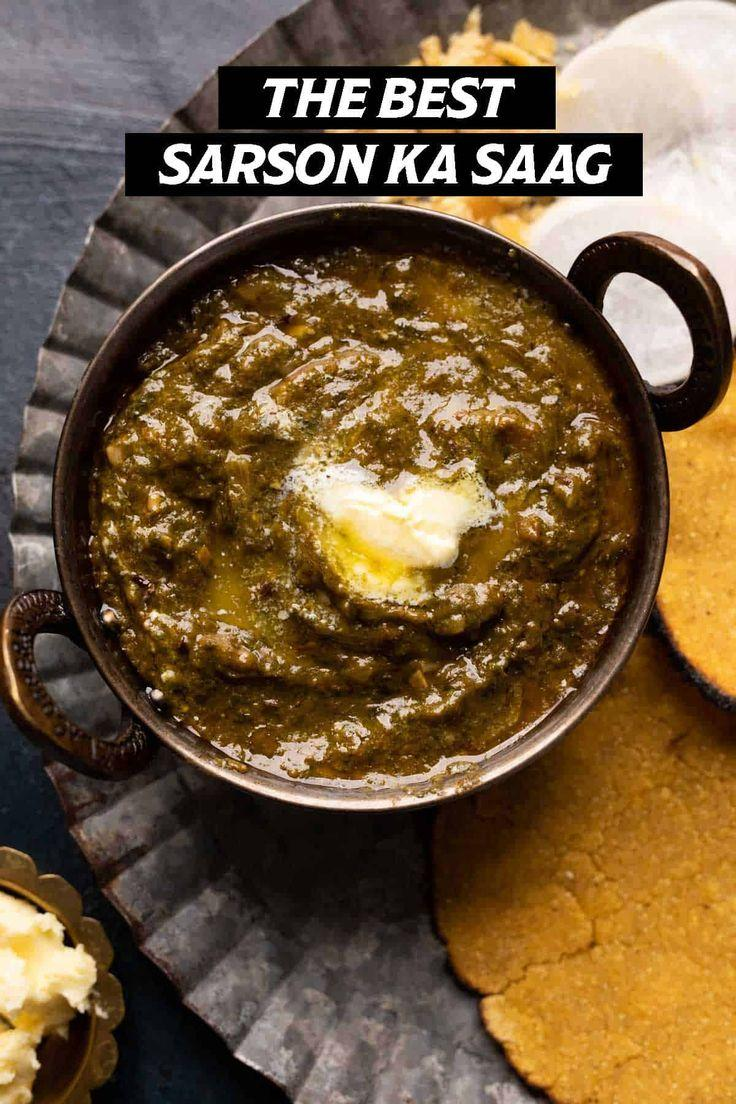saag: (114, 264, 624, 766)
